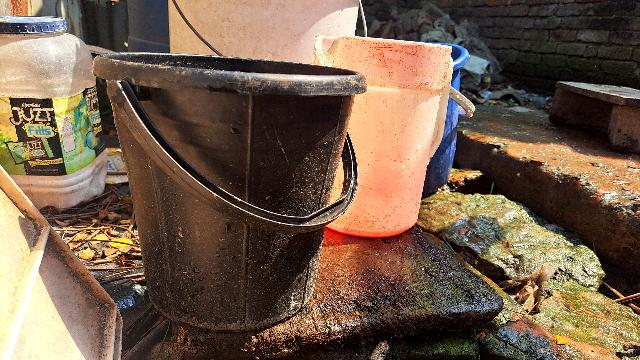hardplastic: (70, 49, 374, 321), (305, 40, 456, 238), (2, 10, 103, 212)
